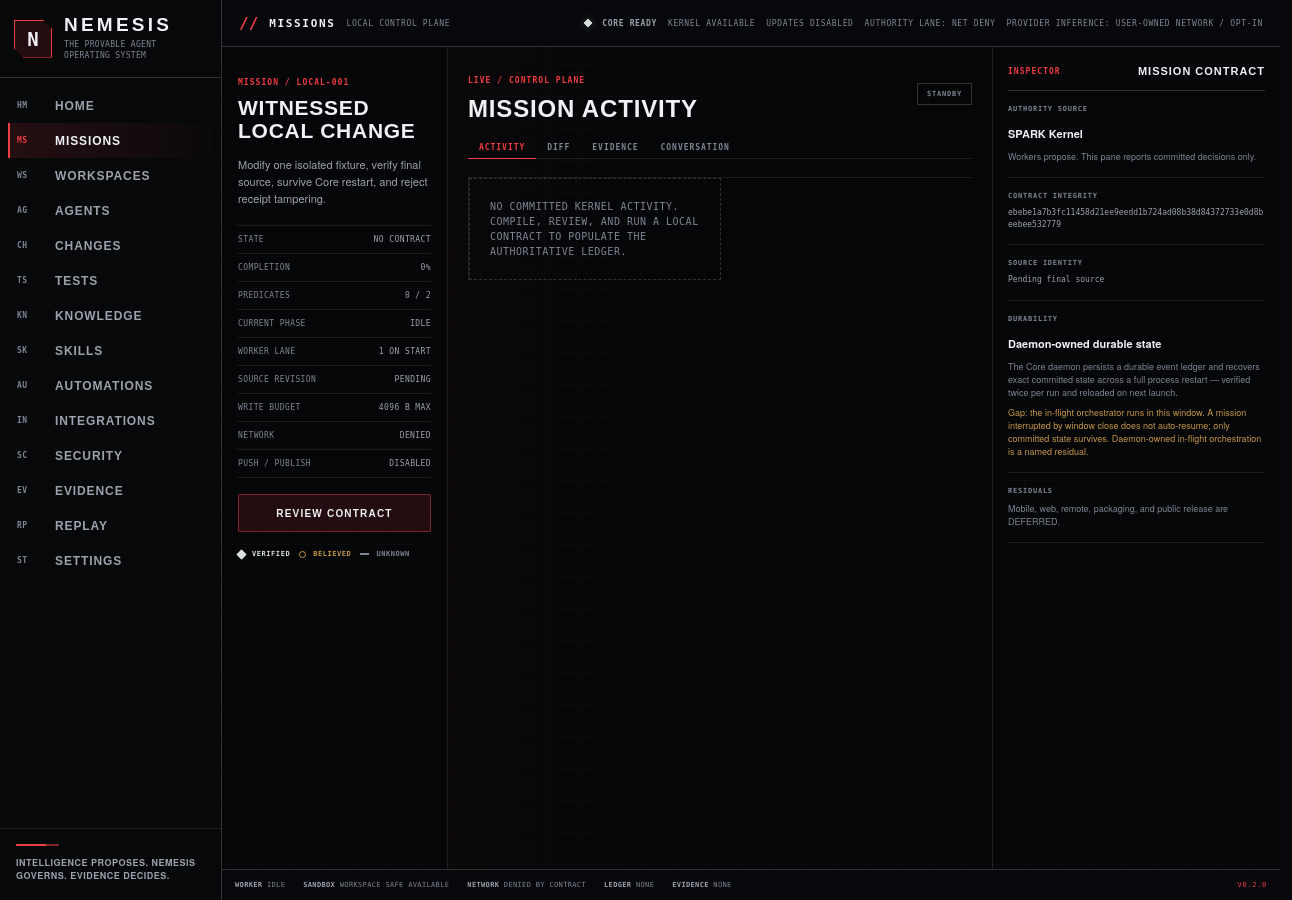
it: NEMESIS Desktop production surface › renders typed refusal and concrete recovery guidance
Click the button "MS Missions" at (110, 140), box left=8, top=123, right=213, bottom=158
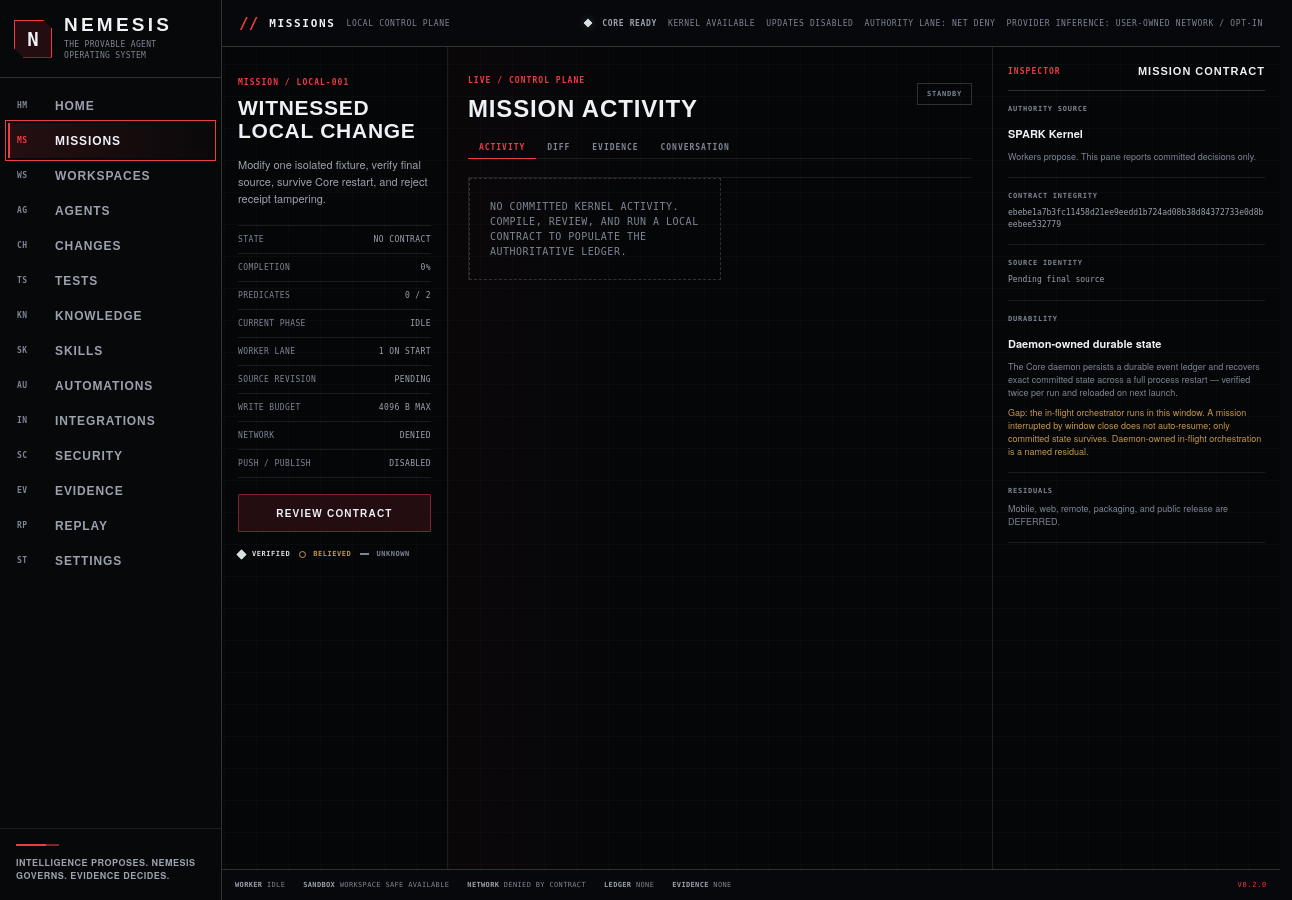
Click the button "Review contract" at (334, 514), box left=238, top=494, right=431, bottom=532
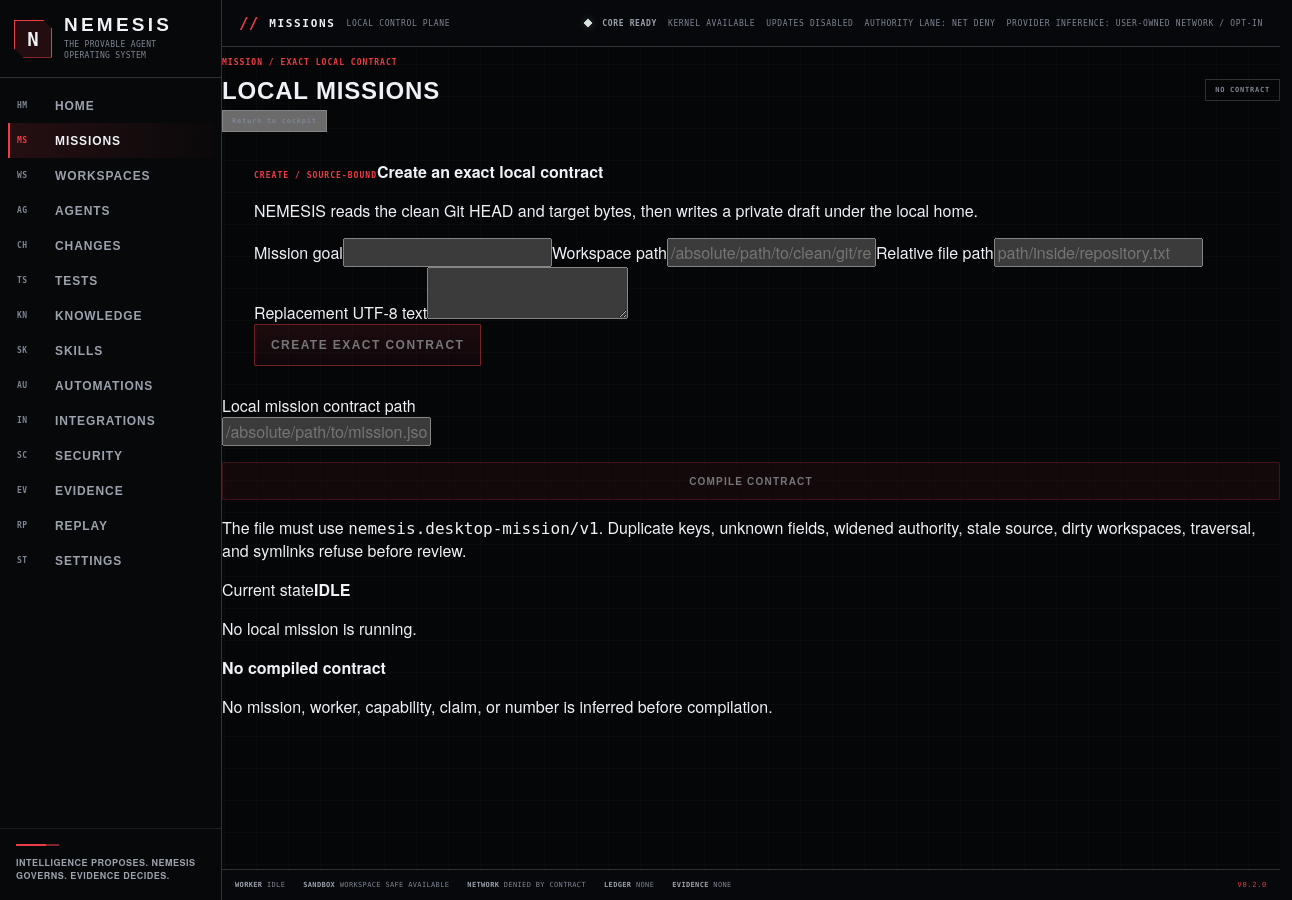
Type "/tmp/bad.json" into the field labelled "Local mission contract path" at (326, 432), box left=222, top=417, right=431, bottom=446
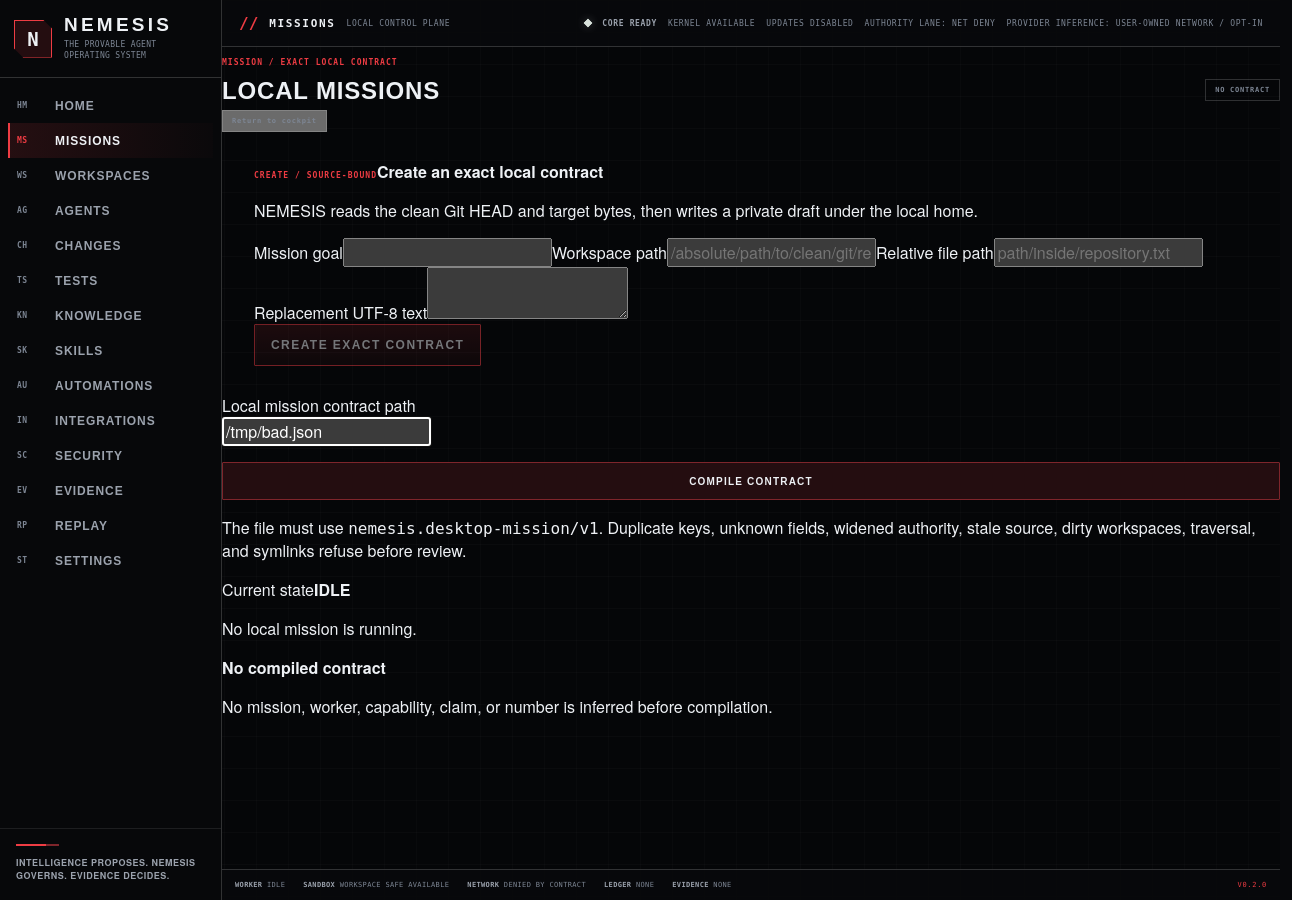
Click the button "Compile contract" at (751, 481), box left=222, top=462, right=1280, bottom=500
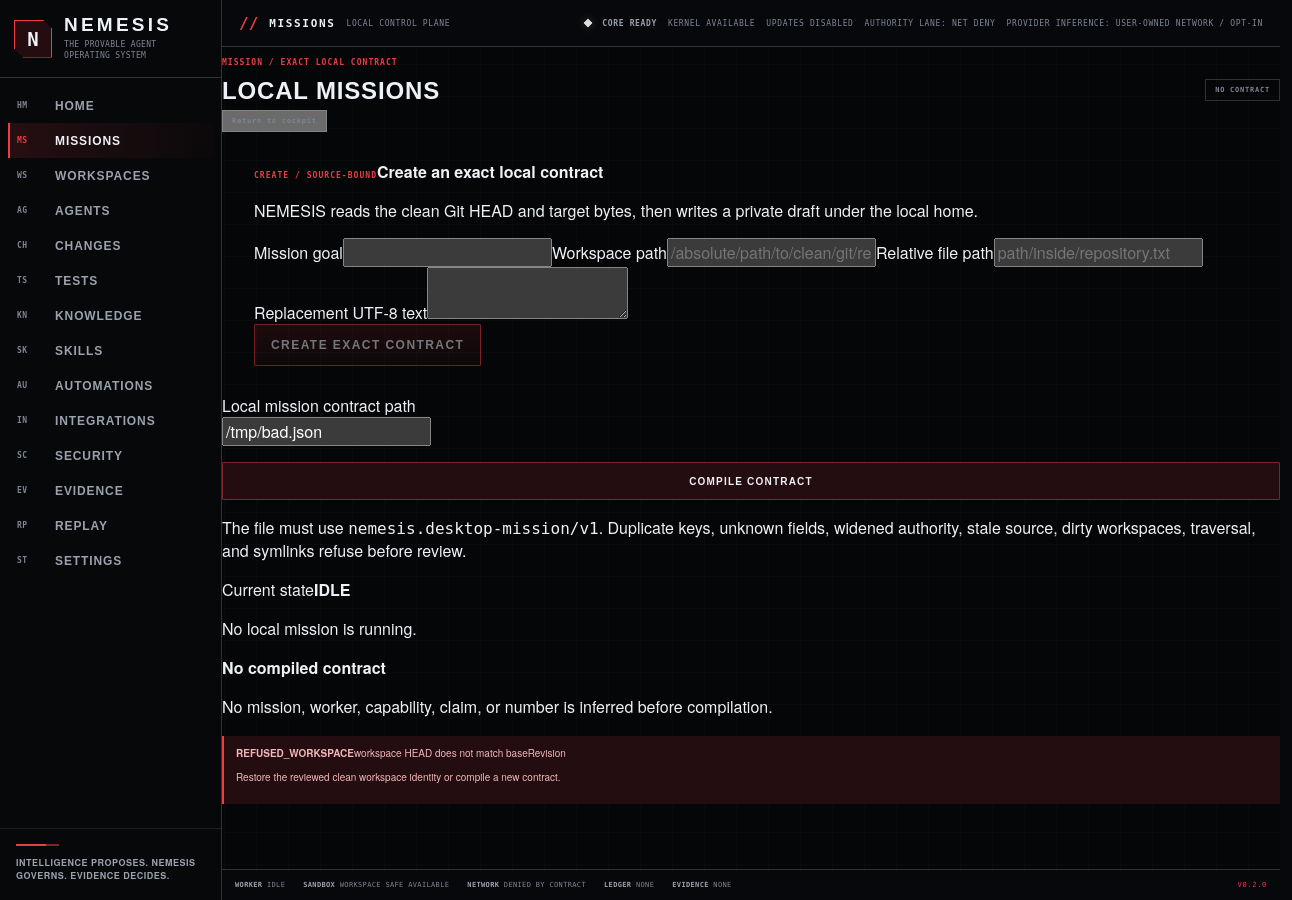
Result: the message shows "REFUSED_WORKSPACE" at left=236, top=746, right=354, bottom=760
Result: the message shows "Restore the reviewed clean workspace identity" at left=236, top=770, right=561, bottom=784
